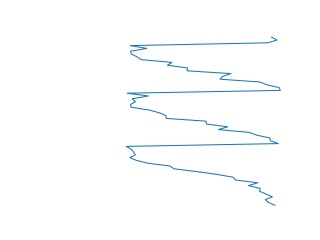distributaryMouthBar: (125, 37, 284, 208)
